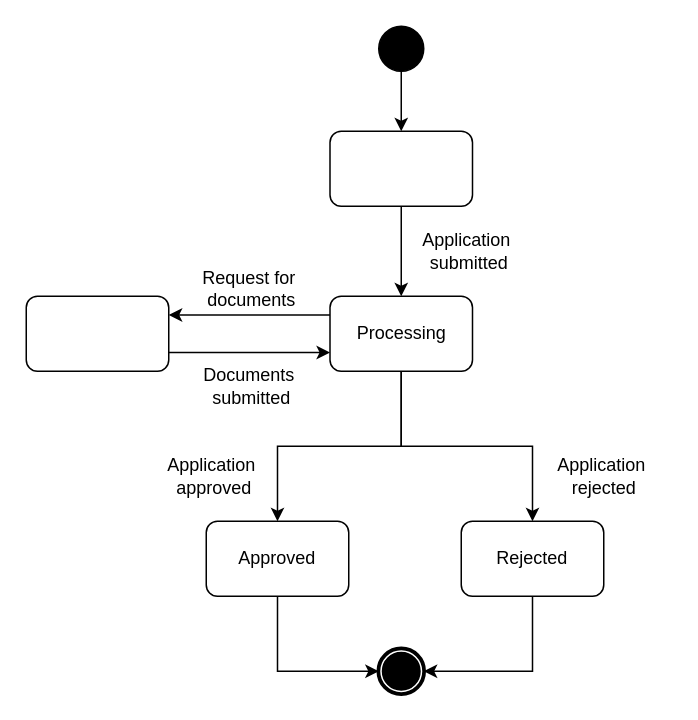
The diagram is 698 pixels wide and 720 high, and some of its shapes have lost their labels. Each missing label, with the centre of its shape:
Application Created: pixel 400 168
Waiting for Documents: pixel 97 333
